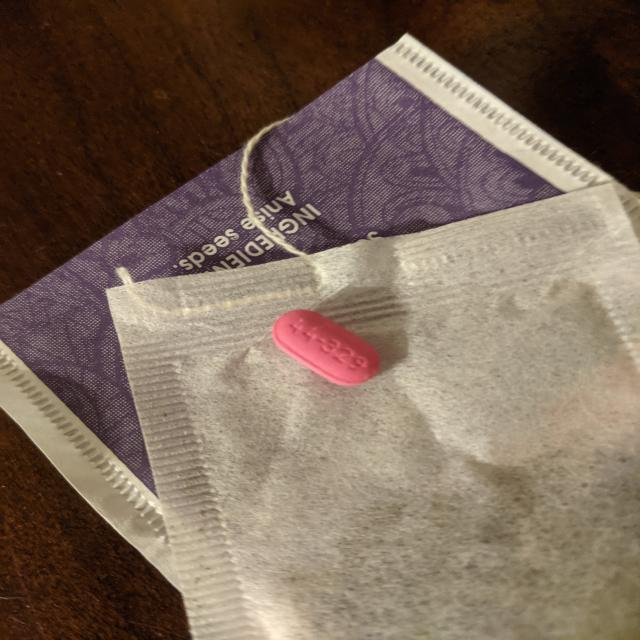non-organic waste: (271, 309, 381, 387)
